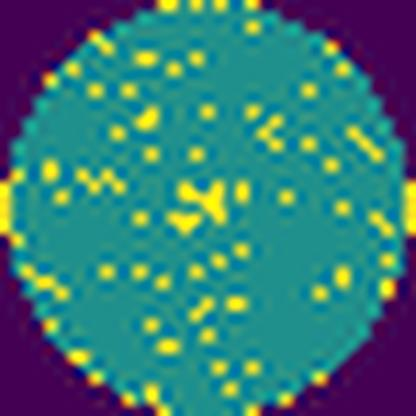Center: (174, 174, 232, 226)
